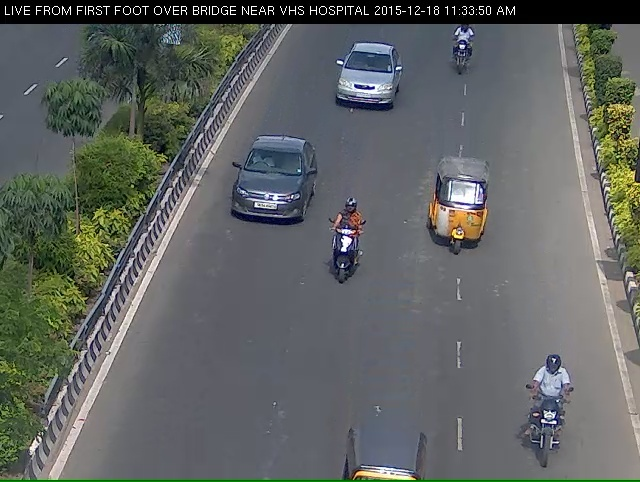Car: (214, 156, 312, 263), (424, 174, 493, 276), (323, 52, 408, 128)
Person: (524, 382, 584, 480), (322, 217, 367, 315), (443, 23, 487, 90)
